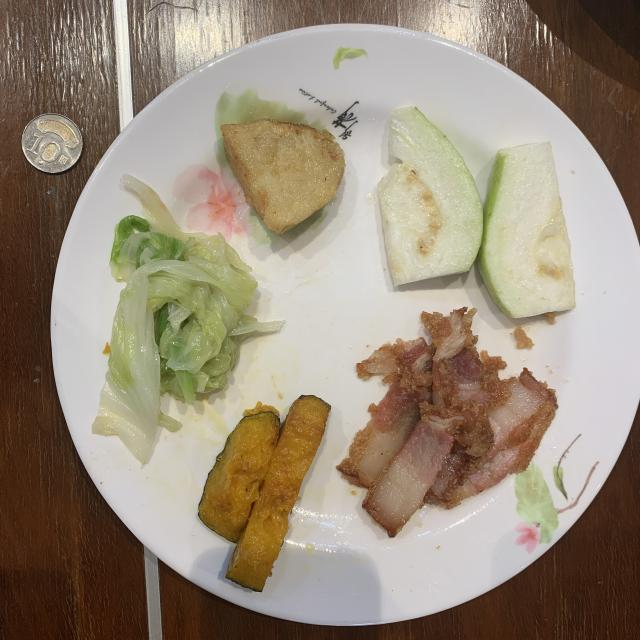cabbage: (92, 179, 281, 464)
coin: (21, 114, 82, 174)
fried potato: (221, 119, 345, 234)
guava -sliced-: (378, 108, 575, 318)
pumpkin: (199, 395, 330, 591)
red grilled pork: (338, 308, 558, 536)
